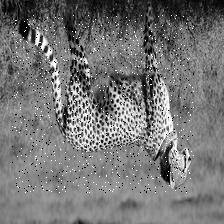Cheetha: (12, 14, 194, 192)
